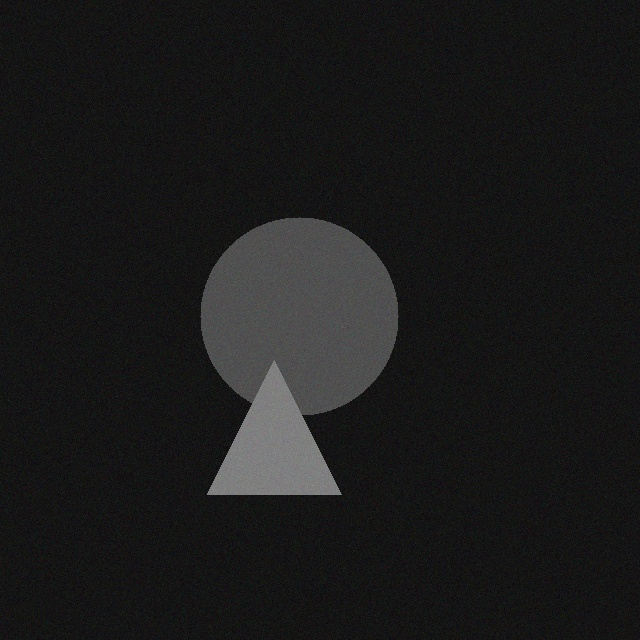circle: (187, 232, 385, 430)
triangle: (194, 375, 328, 509)
